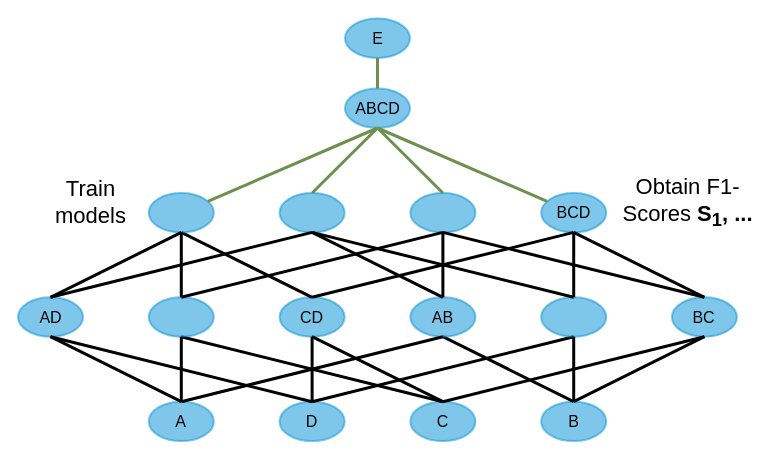
The diagram is 770 pixels wide and 459 high, and some of its shapes have lost their labels. Each missing label, with the centre of its shape:
ABC: pixel 442 212
ABD: pixel 311 212
AC: pixel 180 316
ACD: pixel 180 212
BD: pixel 573 316
